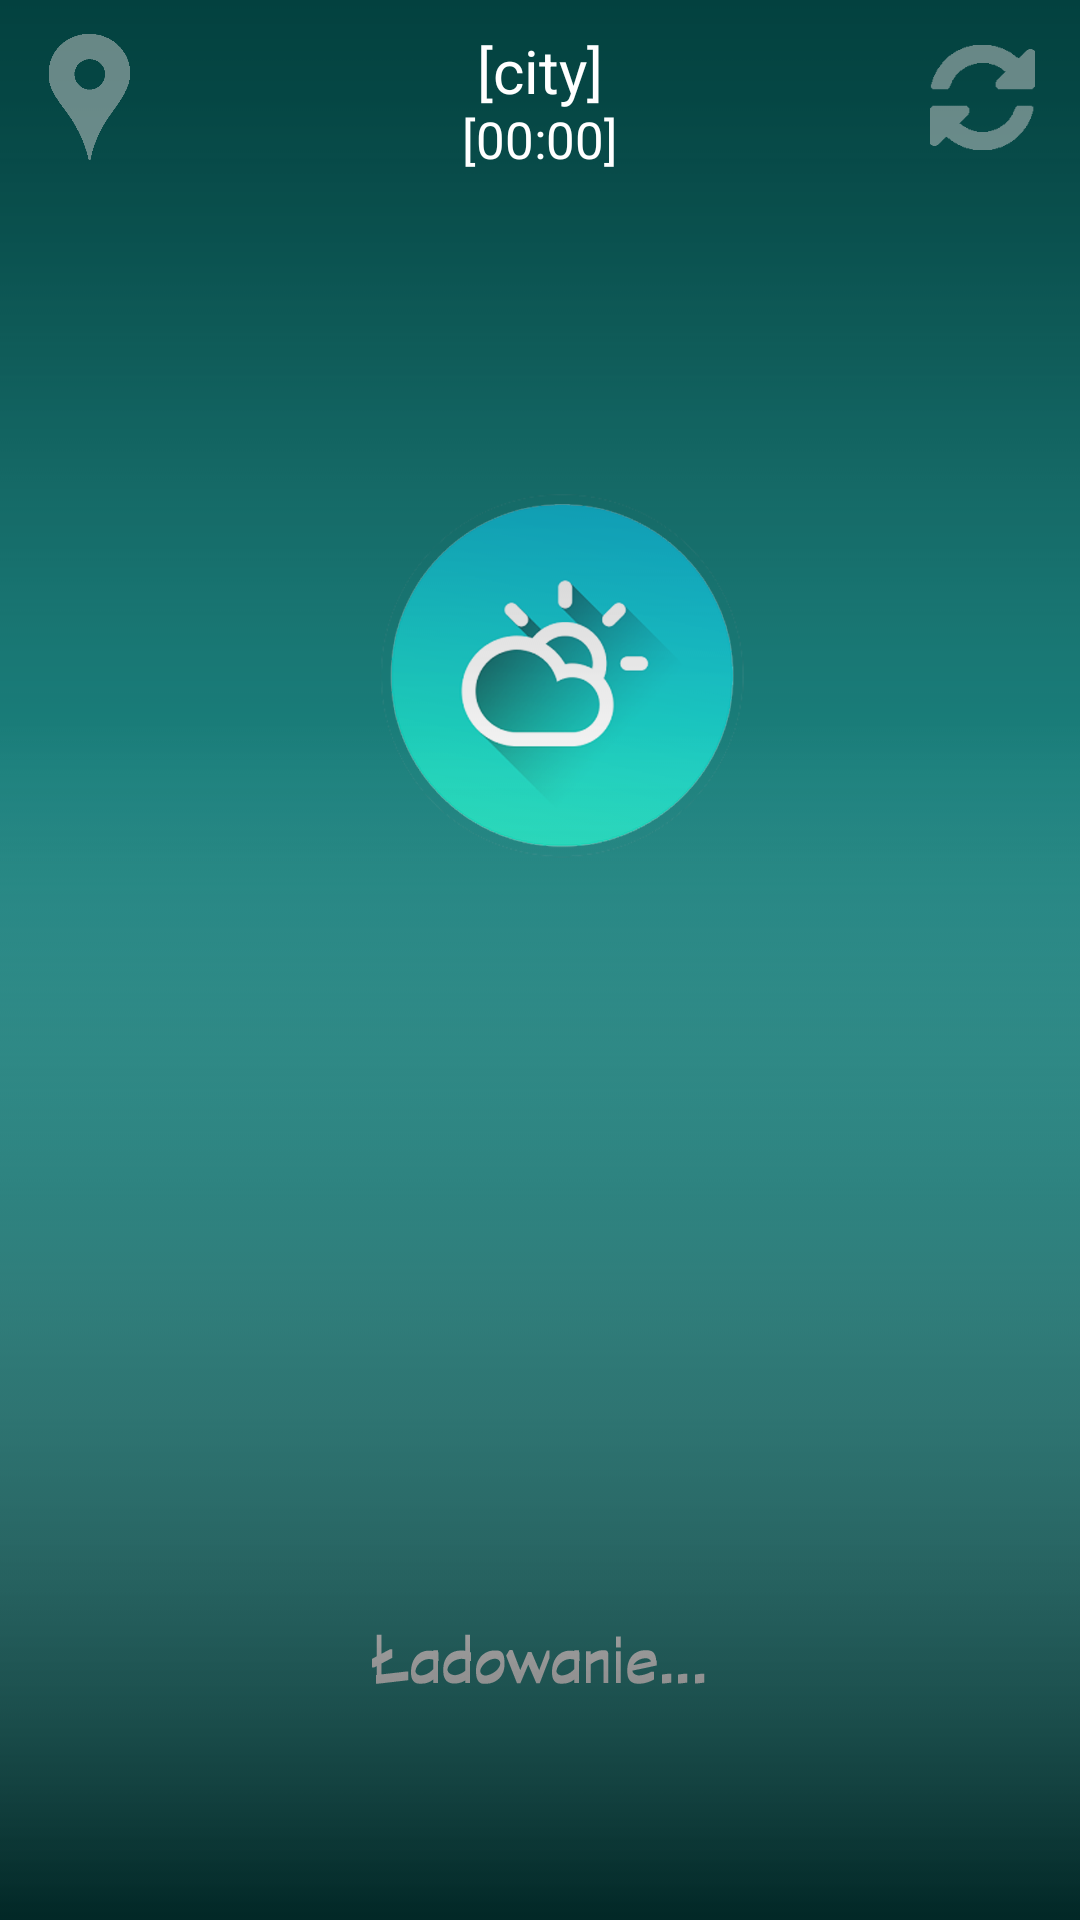

Icon click points for this 1080 x 1920 phone screenshot, format (x=x, y=y):
location: (x=89, y=97)
refresh: (x=982, y=97)
